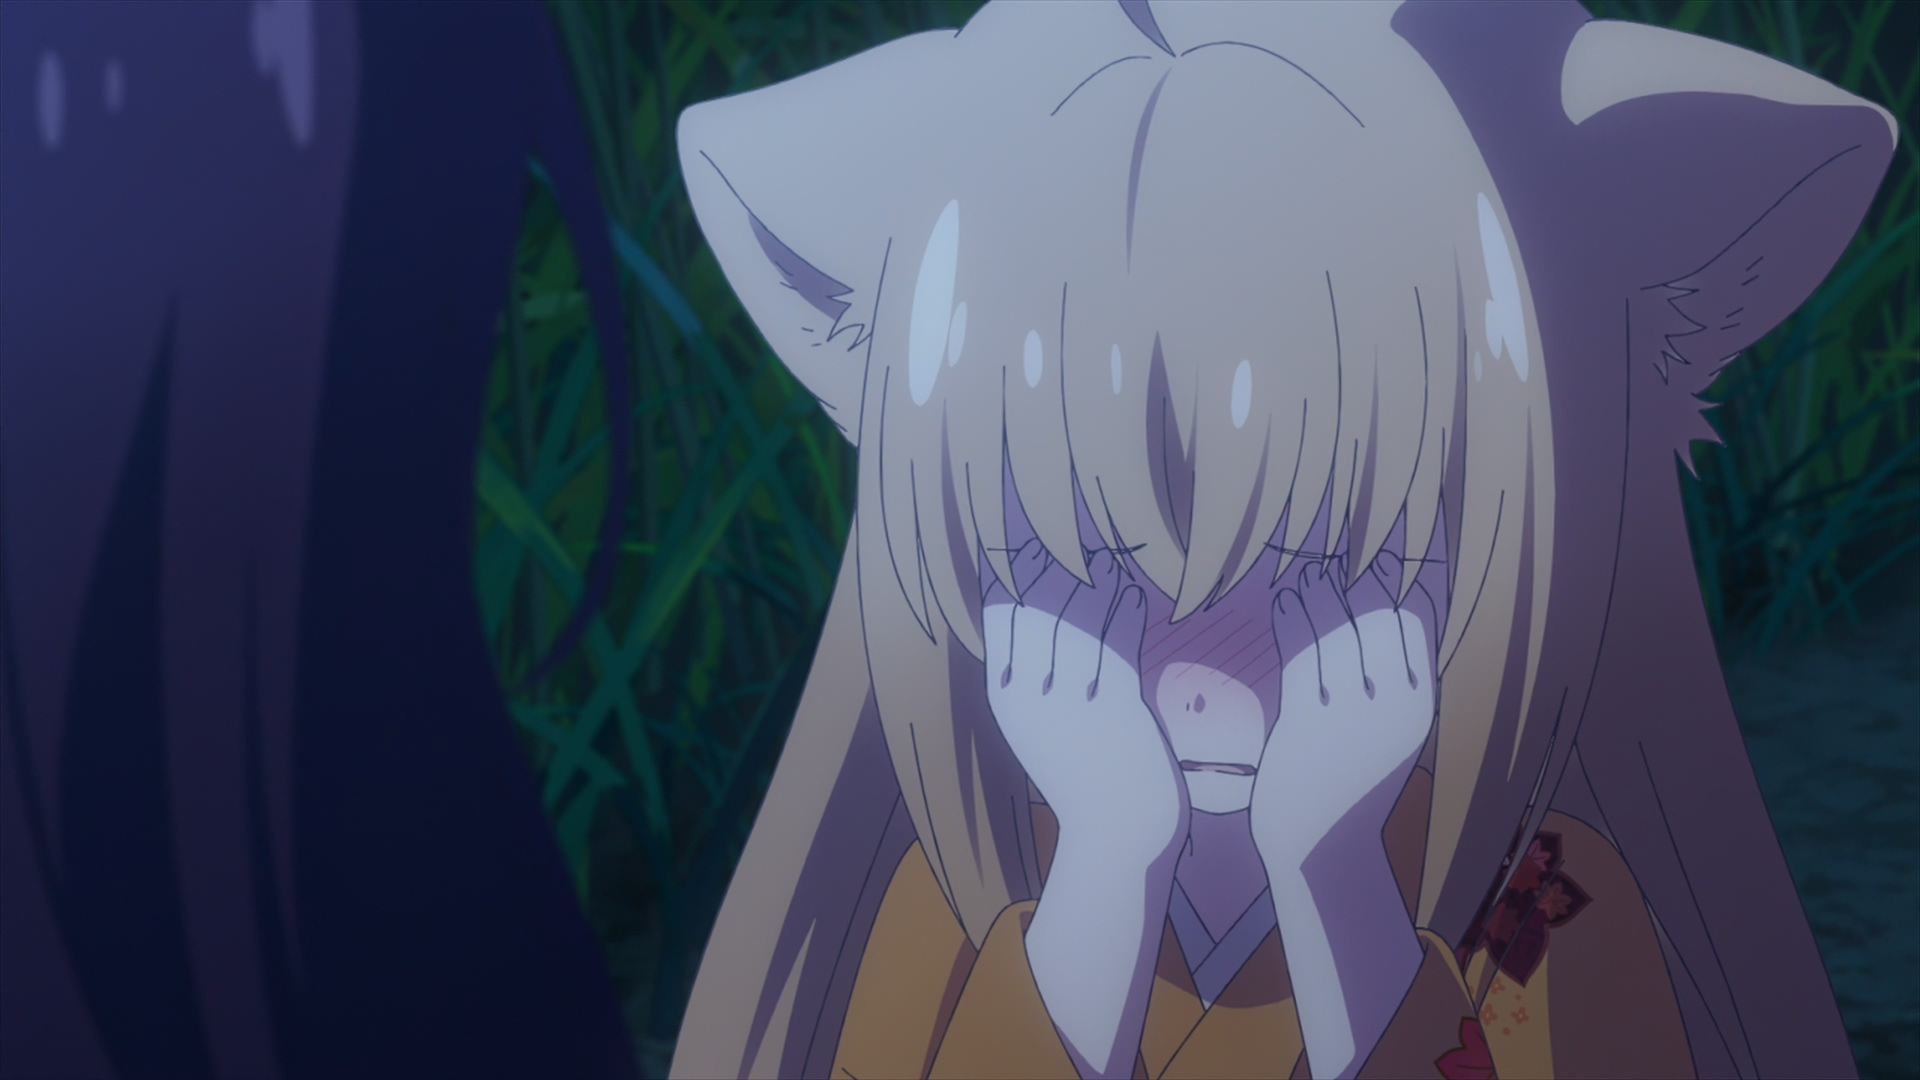柚: (667, 1, 1896, 1080)
皋: (1, 1, 657, 1080)
